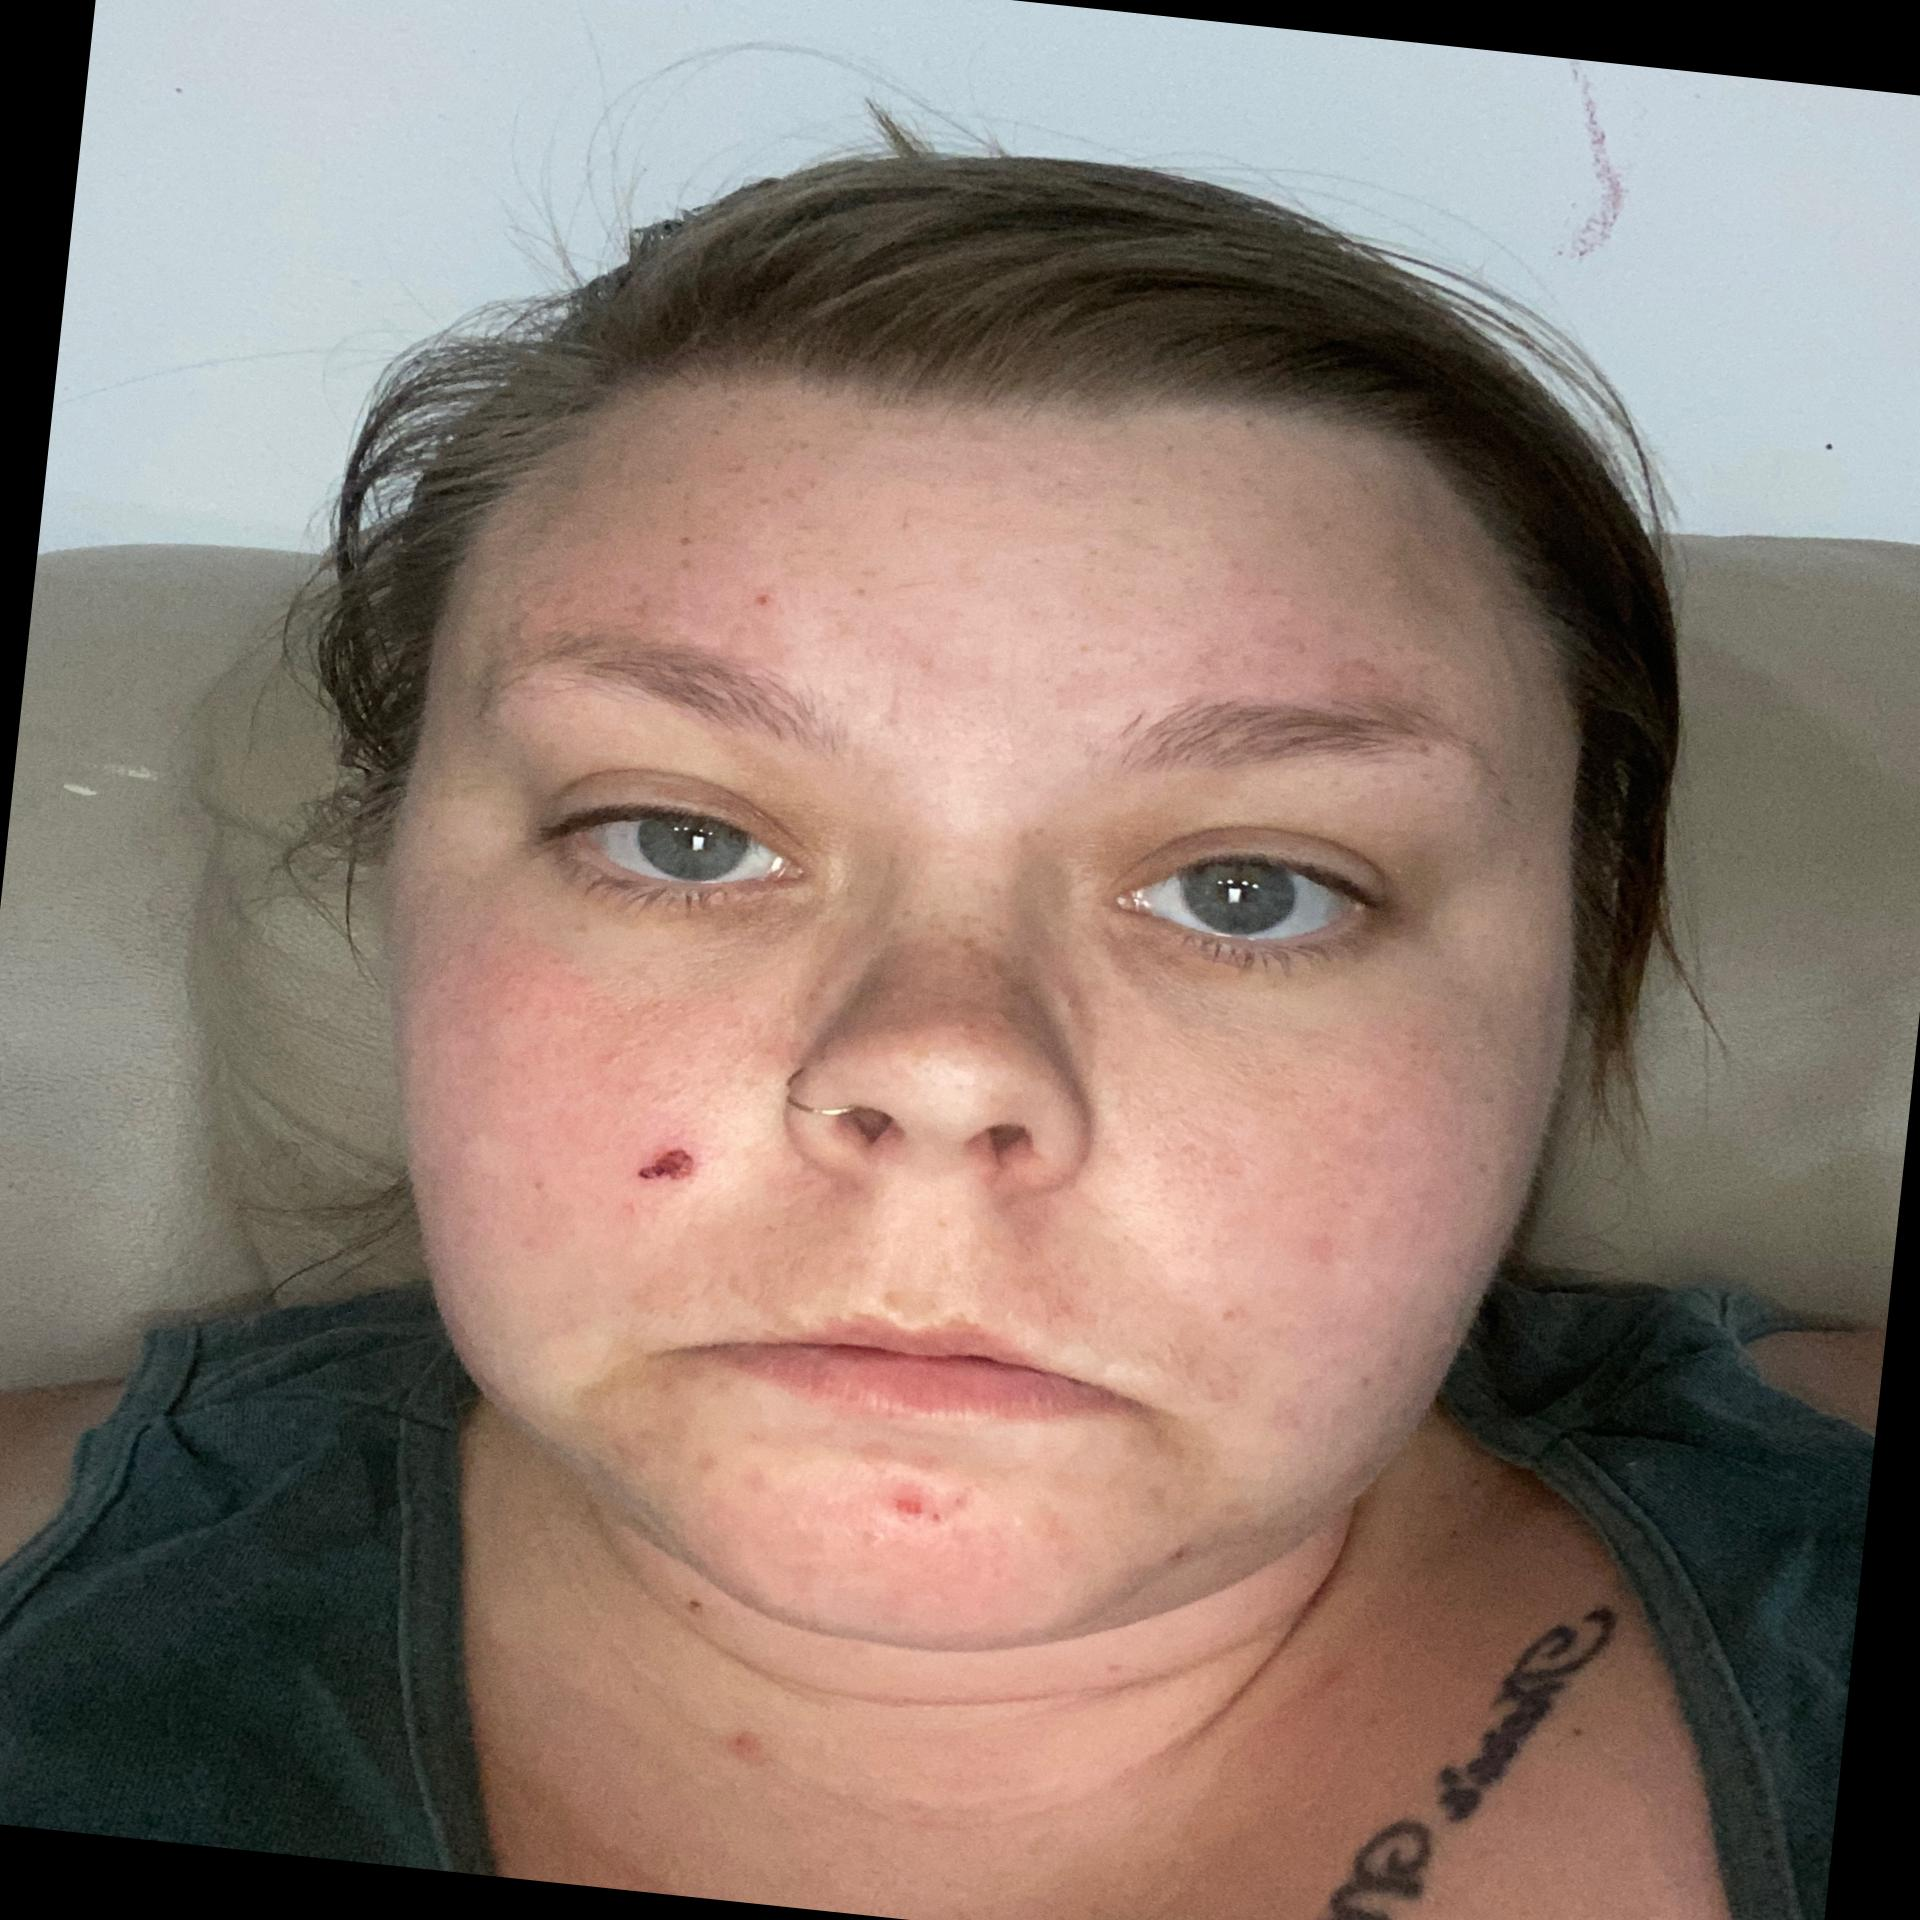Acne: (608, 1136, 703, 1203), (869, 1484, 934, 1533), (1146, 1537, 1201, 1572), (737, 585, 784, 619)
Wrinkles: (543, 1315, 695, 1431), (1104, 1384, 1257, 1479)
